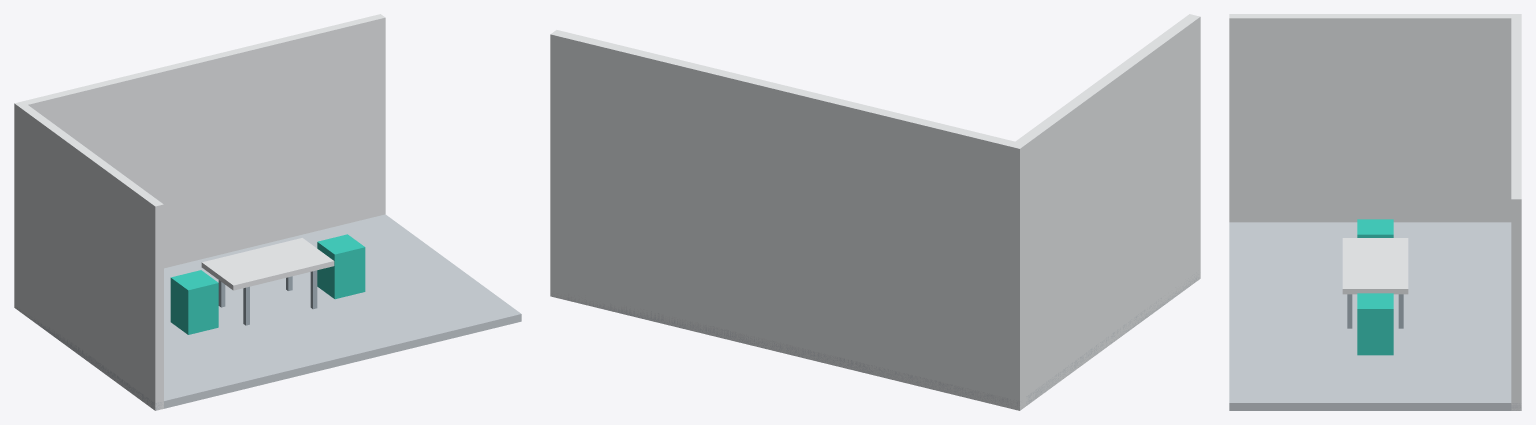
The picture shows the model from 3 angles, left to right: view 1: azimuth 30°, elevation 25°; view 2: azimuth 150°, elevation 25°; view 3: azimuth 270°, elevation 25°; orthographic projection. The views are drawn at different scales.
Visible parts, largest first — view 1: Exhibition Booth Concept; view 2: Exhibition Booth Concept; view 3: Exhibition Booth Concept.
Part boxes in pixels (x1,y1,x2,y2): Exhibition Booth Concept: (14, 14, 521, 410); Exhibition Booth Concept: (550, 14, 1200, 410); Exhibition Booth Concept: (1229, 14, 1521, 410).
Bounding box in the file's own units: 6 × 3.2 × 4.
